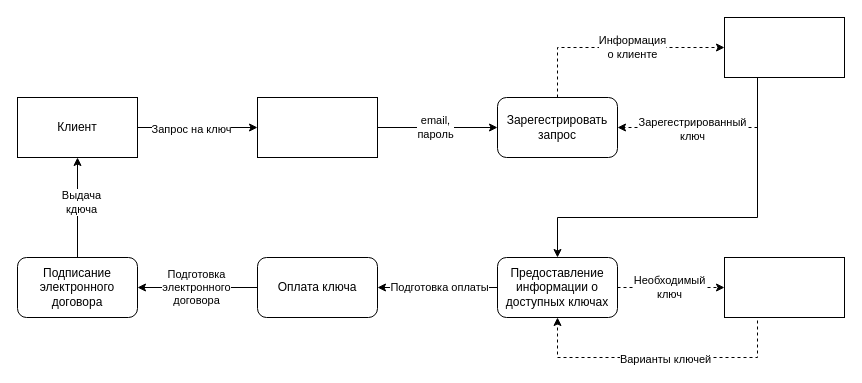
This 862x383 diagram has some shape labels left out. The centre of each missing label's shape, as x and y in pixels:
"Веб-сайт" goes at (x=317, y=127).
"Клиенты" goes at (x=784, y=47).
"Ключи" goes at (x=784, y=287).
